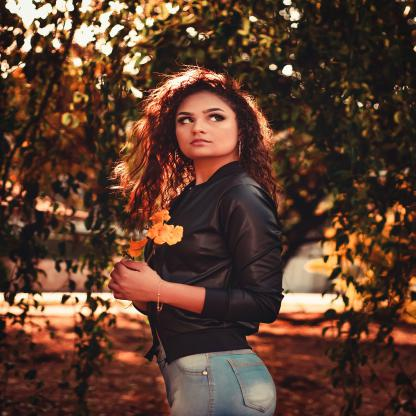Eye: (206, 113, 226, 123), (177, 116, 195, 126)
Mouth: (188, 137, 213, 147)
Nose: (191, 120, 207, 135)
